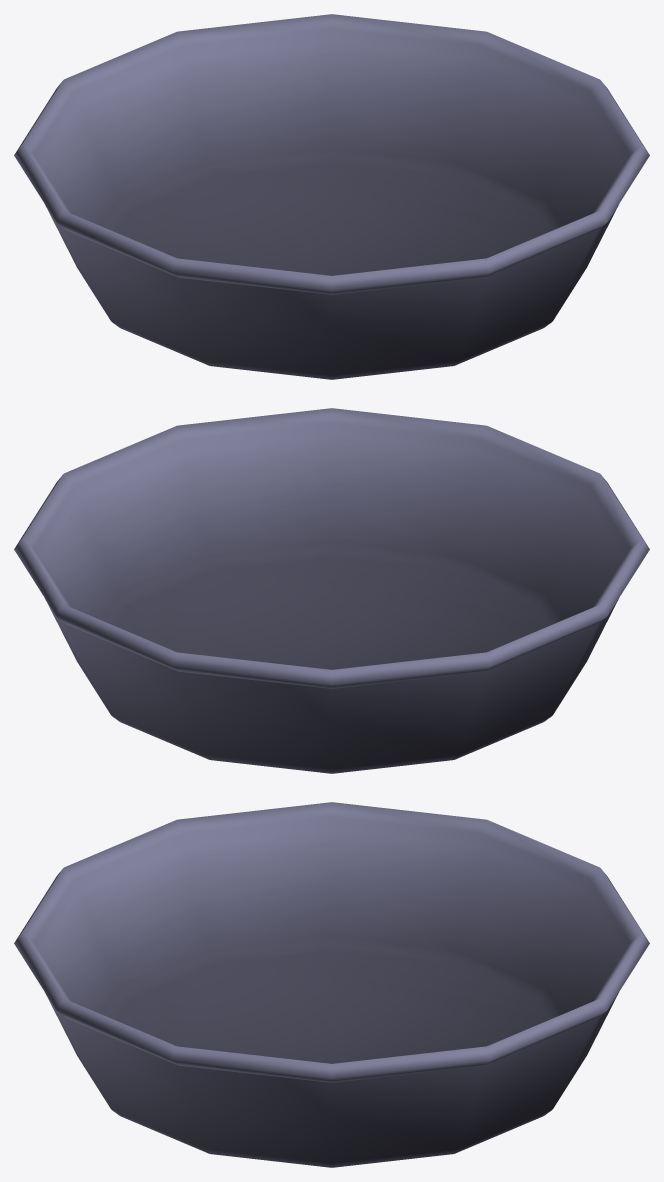
Rendered from m_PieTin01.fbx.
The picture shows the model from 3 angles, top to bottom: view 1: azimuth 30°, elevation 25°; view 2: azimuth 150°, elevation 25°; view 3: azimuth 270°, elevation 25°; orthographic projection.
Visible parts, largest first — view 1: m_PieTin01; view 2: m_PieTin01; view 3: m_PieTin01.
Part boxes in pixels (<box>): m_PieTin01: <box>14,14,649,379</box>; m_PieTin01: <box>14,408,649,773</box>; m_PieTin01: <box>14,802,649,1167</box>.
Size of the model in its own units: 30.49 by 6.96 by 30.49.
